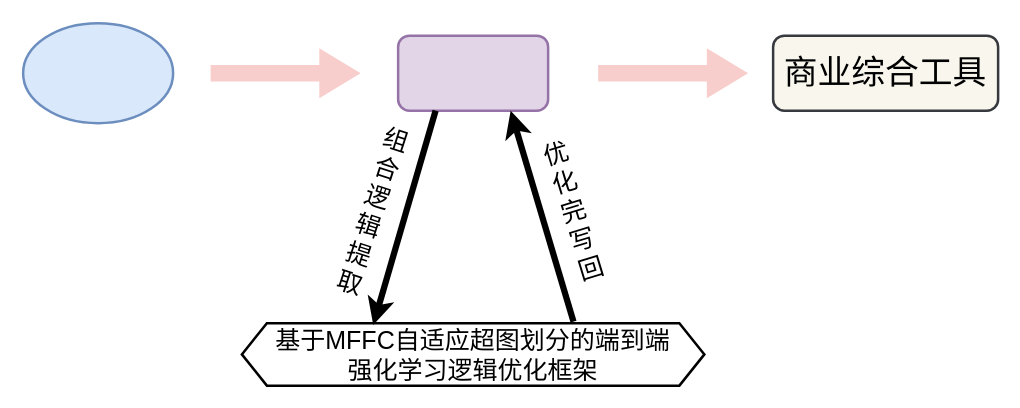
The diagram is 1020 pixels wide and 408 high, and some of its shapes have lost their labels. The centre of each missing label's shape, as x and y in pixels:
"Verilogs" belongs at pixel 97 72.
"Yosys" belongs at pixel 472 72.
